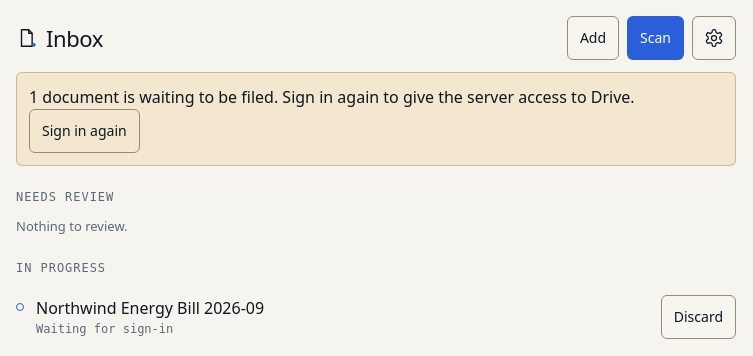
Test: InboxScreen › discards a document that is waiting, and shows it as discarded
What coordinates should you click on to do the following:
click the button "Discard"
I would click on:
 (698, 317)
Its box is top-left (661, 295), bottom-right (736, 339).
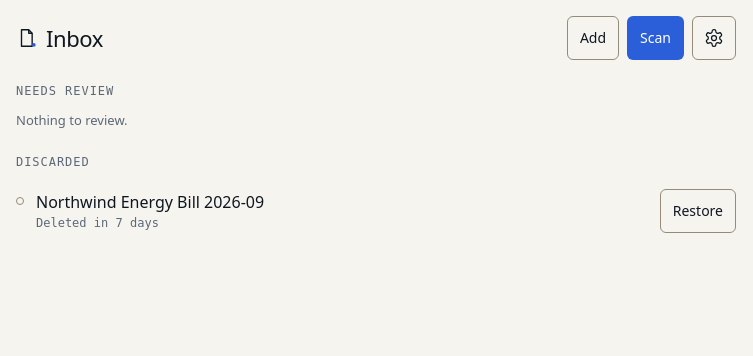
Result: the element "Discarded" is shown at top-left (16, 155), bottom-right (736, 245)
